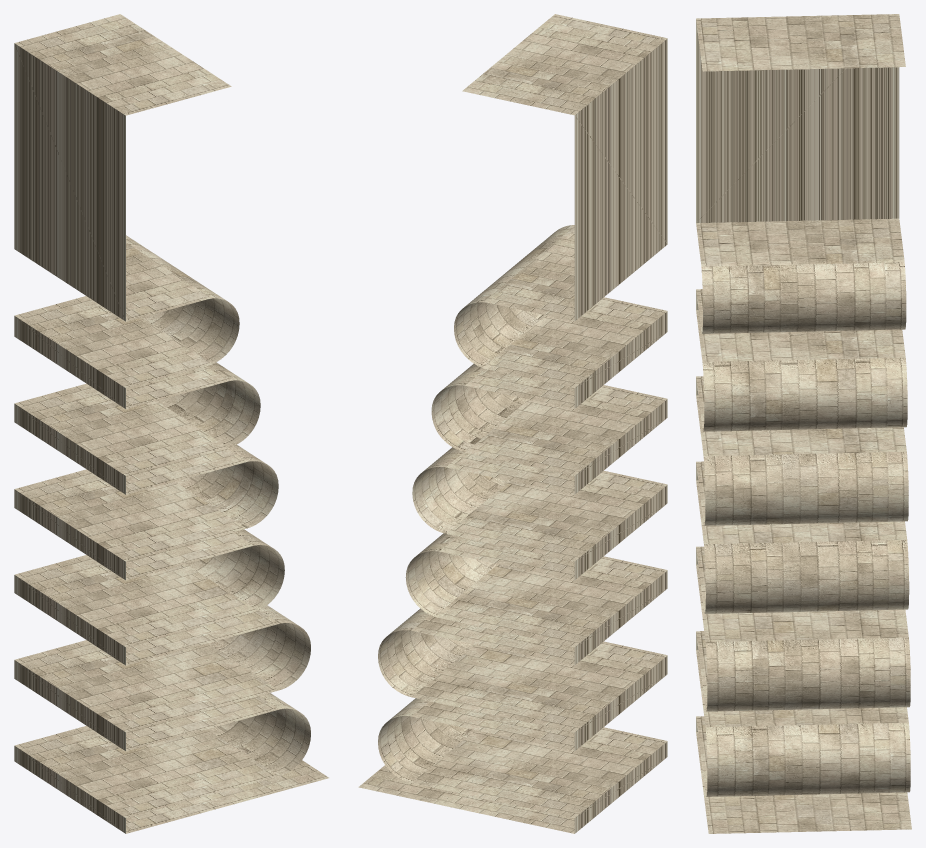
File: walls_145.fbx
3 renders of one model, left to right at view 1: azimuth 30°, elevation 25°; view 2: azimuth 150°, elevation 25°; view 3: azimuth 270°, elevation 25°, orthographic.
Parts seen in each view (by area): view 1: walls_145; view 2: walls_145; view 3: walls_145.
Boxes of the visible parts, x1,y1,x2,y2 form: walls_145: (14, 14, 328, 833); walls_145: (358, 14, 667, 833); walls_145: (696, 14, 911, 833).
Size of the model in its own units: 365 by 1141 by 313.
